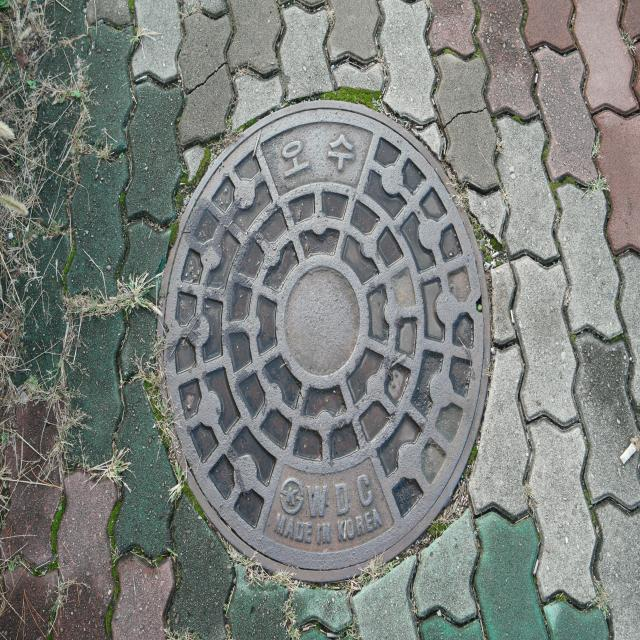manhole: (164, 101, 489, 581)
